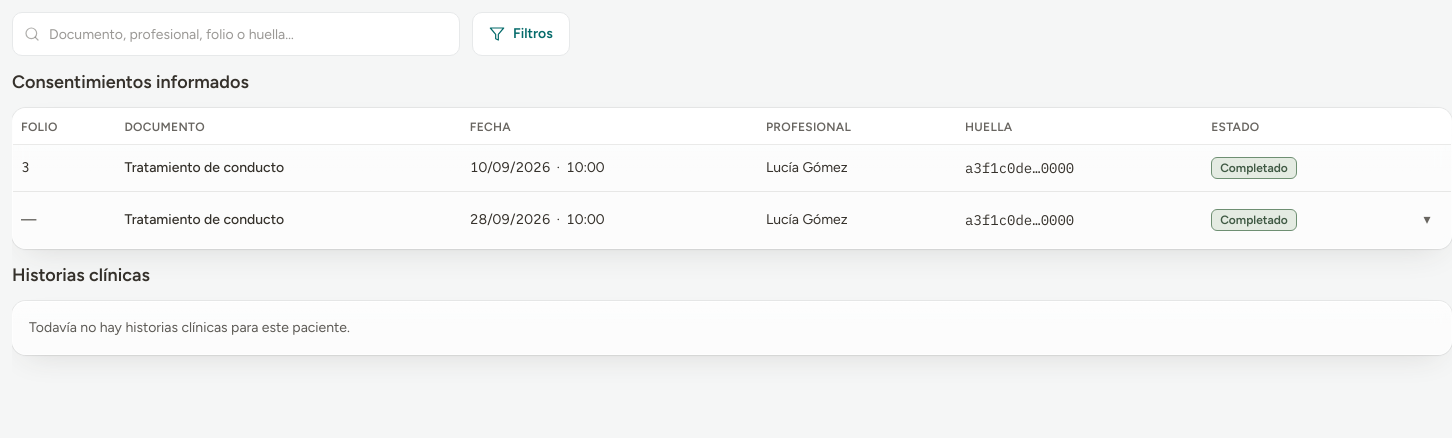
RegistroDeDocumentos: las filas siguen el tienePDF de cada documento › el sellado de la 5.1 sin acciones, el resto con
Expected: the link "Descargar PDF" is not shown
Click the button named "Mostrar acciones" at (1427, 220), box x1=1411 y1=204 x2=1443 y2=236
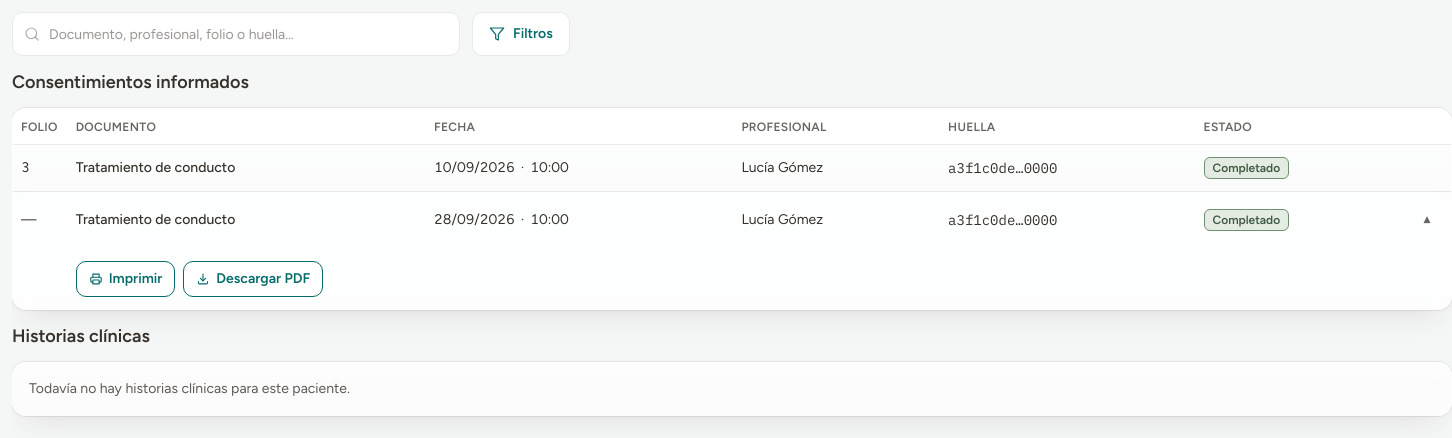
Expected: the link "Descargar PDF" is shown, x1=183 y1=261 x2=323 y2=297
